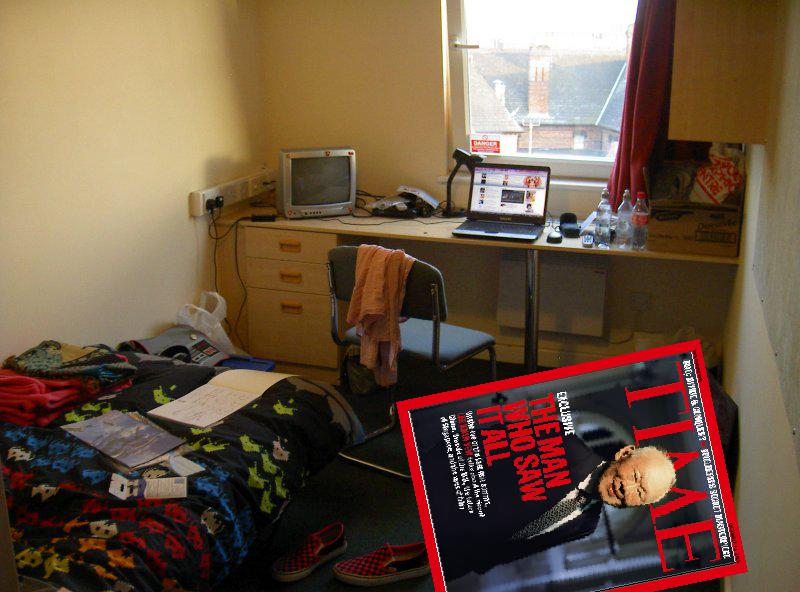times: (393, 333, 749, 592)
